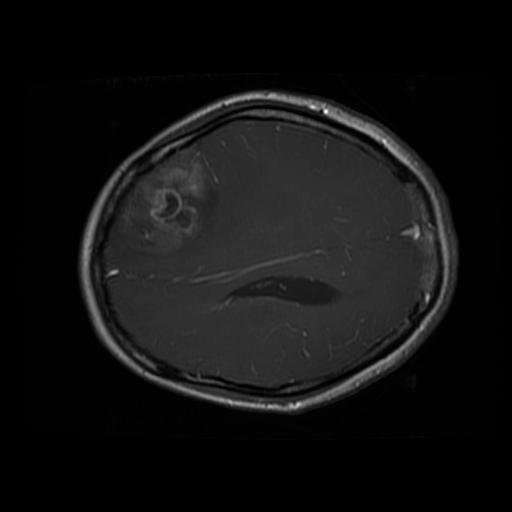glioma: (113, 145, 221, 258)
